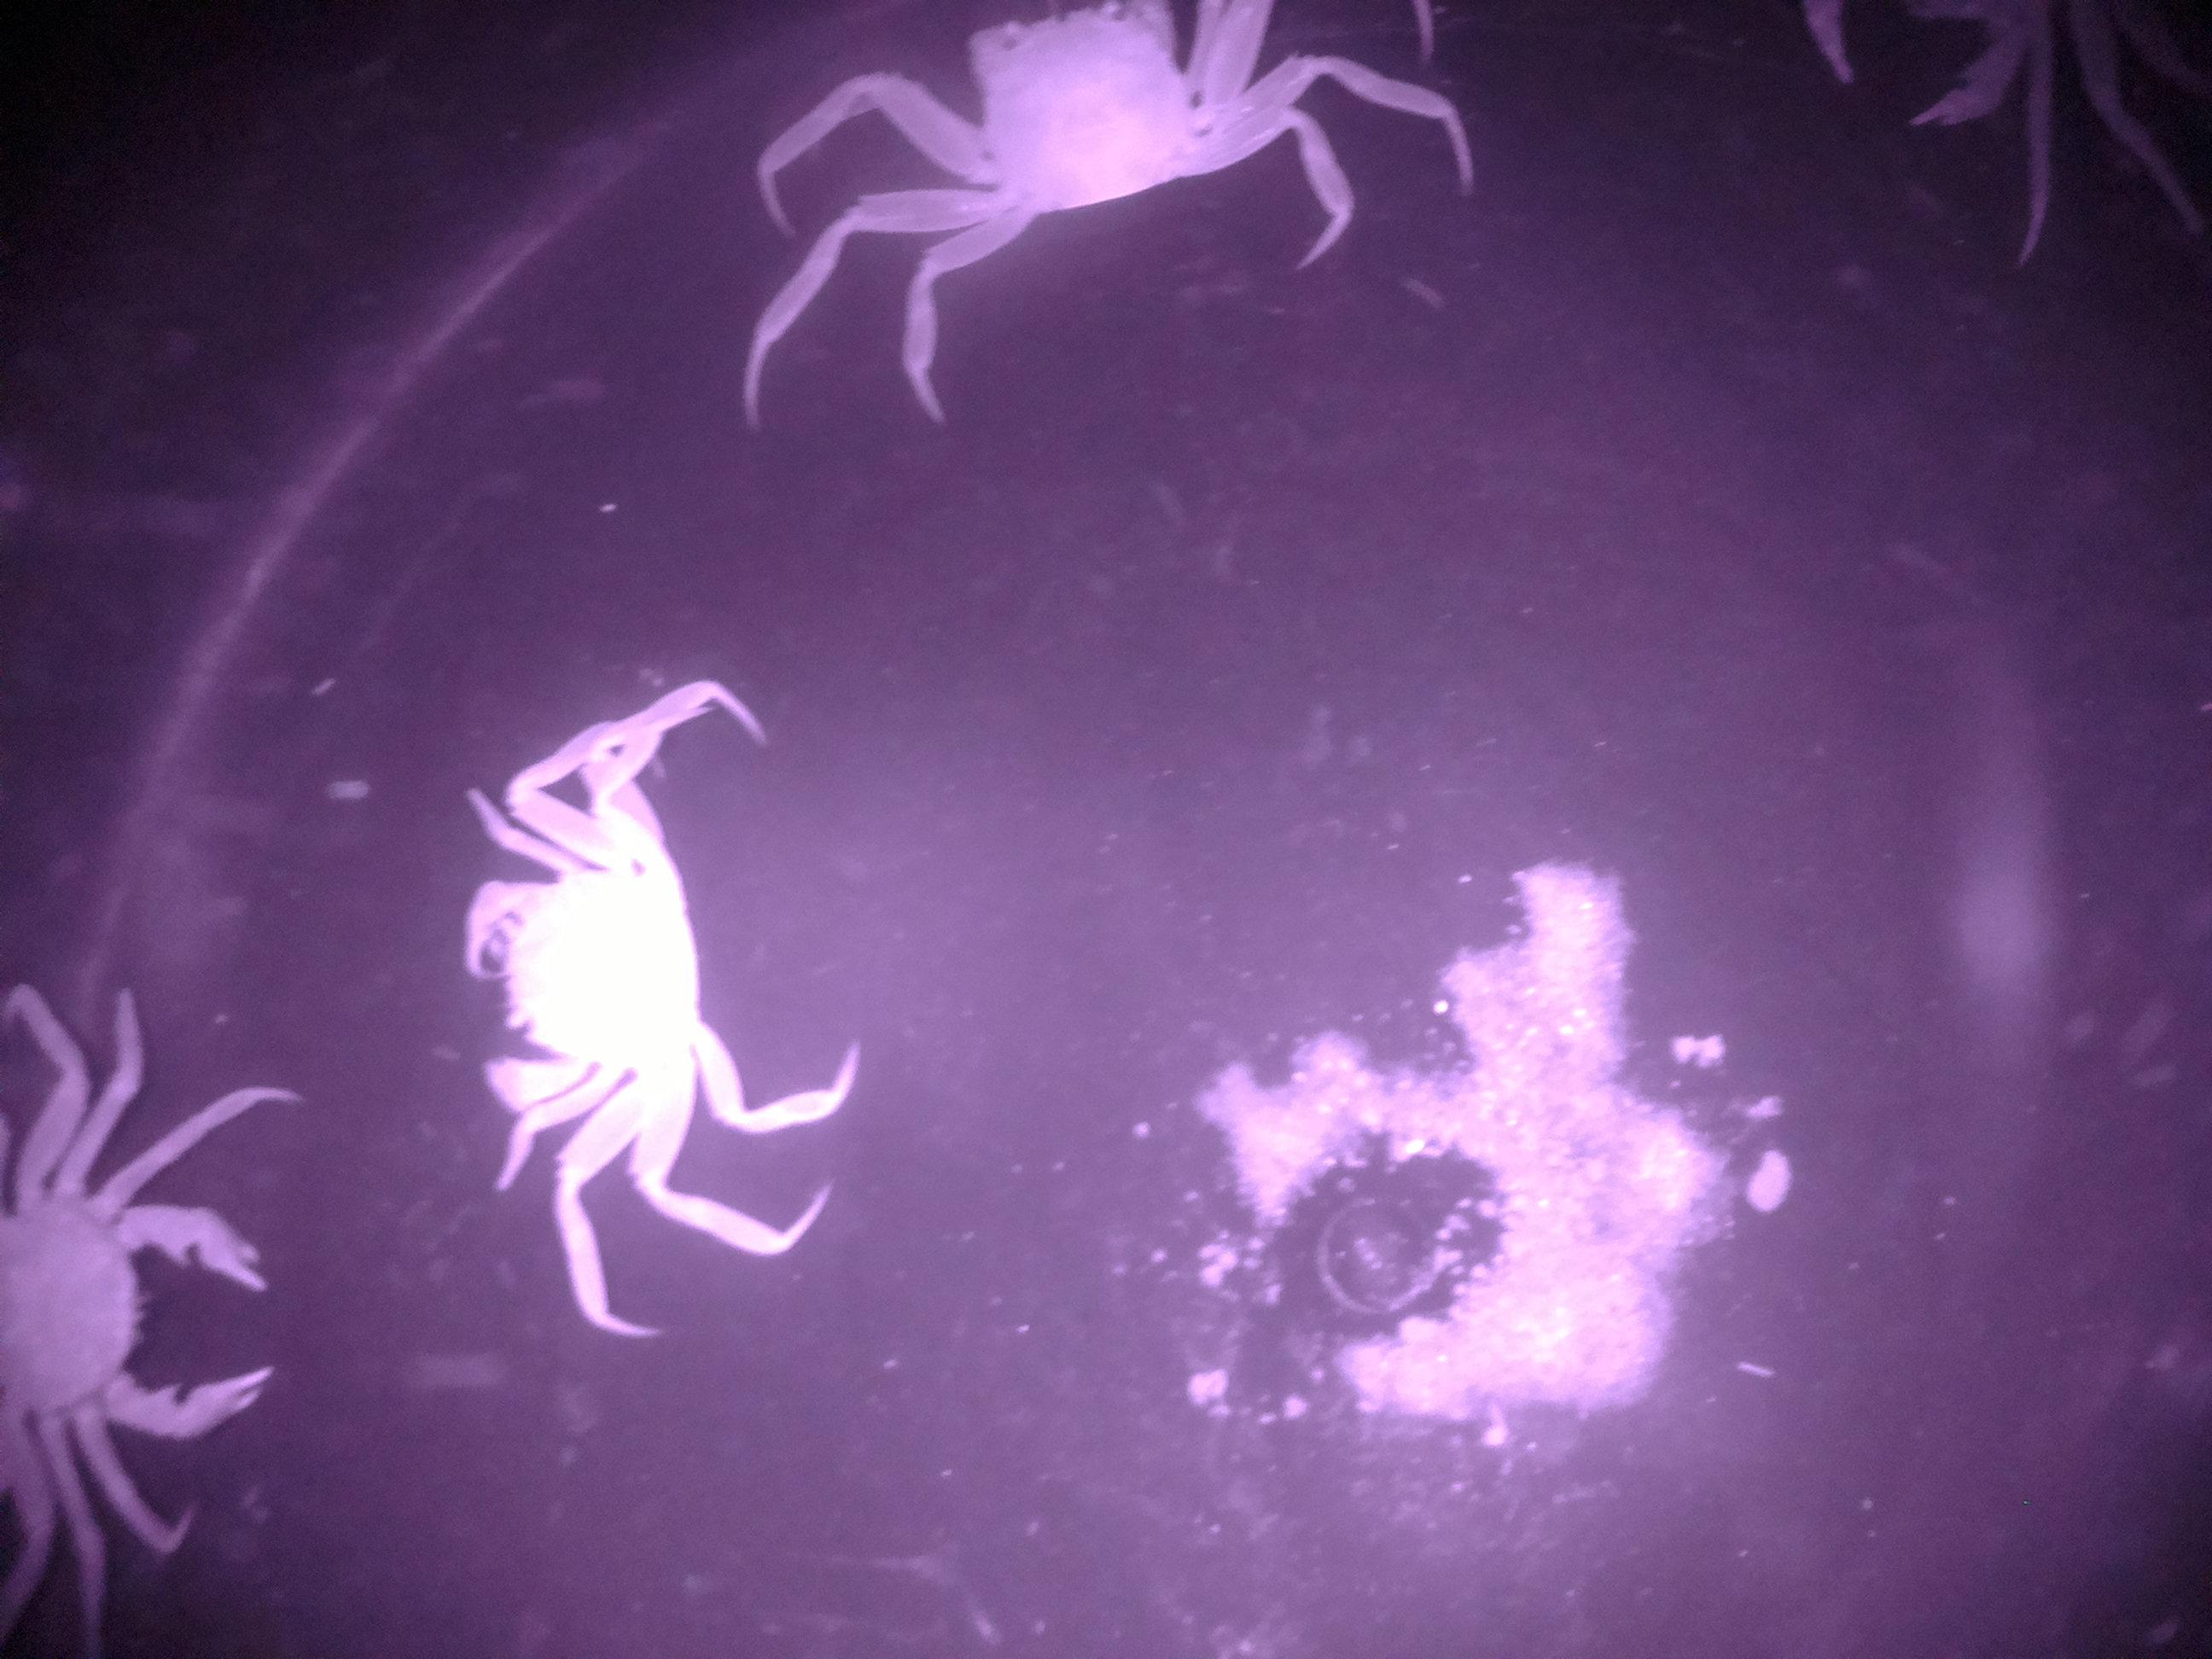Crab: (390, 760, 815, 1237)
